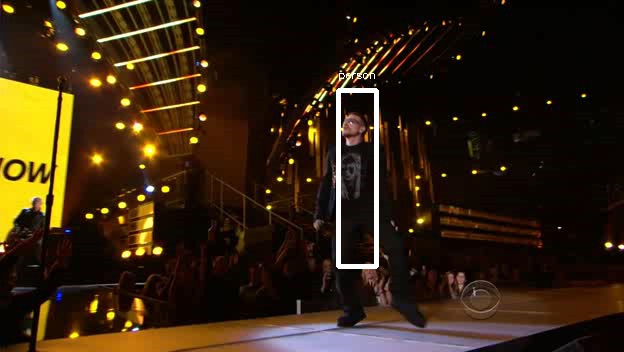person: (318, 114, 388, 232), (315, 114, 385, 232), (321, 114, 391, 232), (318, 111, 388, 229), (318, 117, 388, 235)
target_negative: (151, 21, 504, 250), (200, 201, 531, 303), (14, 258, 409, 334), (401, 250, 594, 321), (447, 209, 496, 324), (586, 188, 607, 236)
